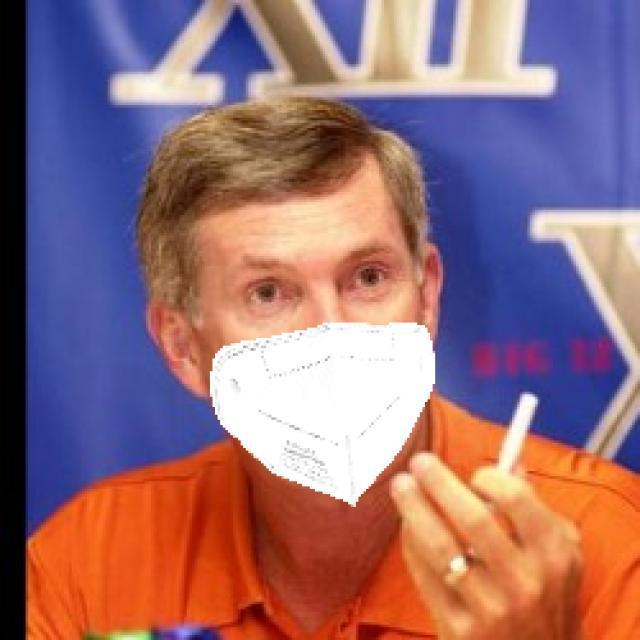kn95: (180, 161, 438, 511)
